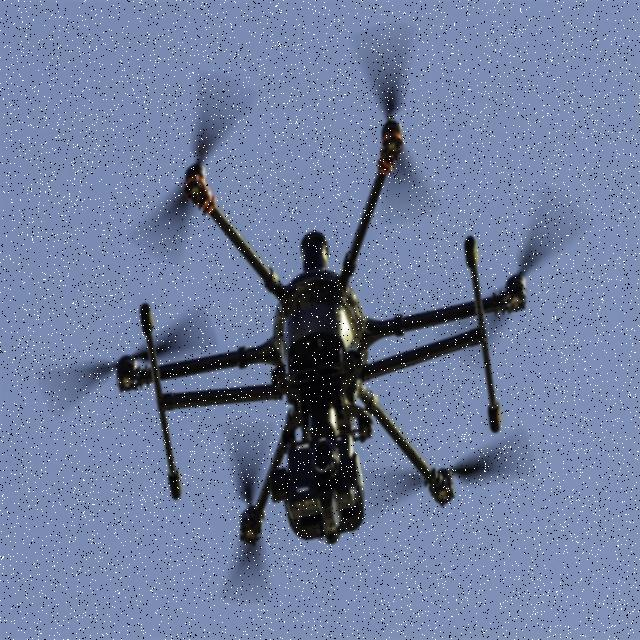UAV: (112, 92, 528, 558)
